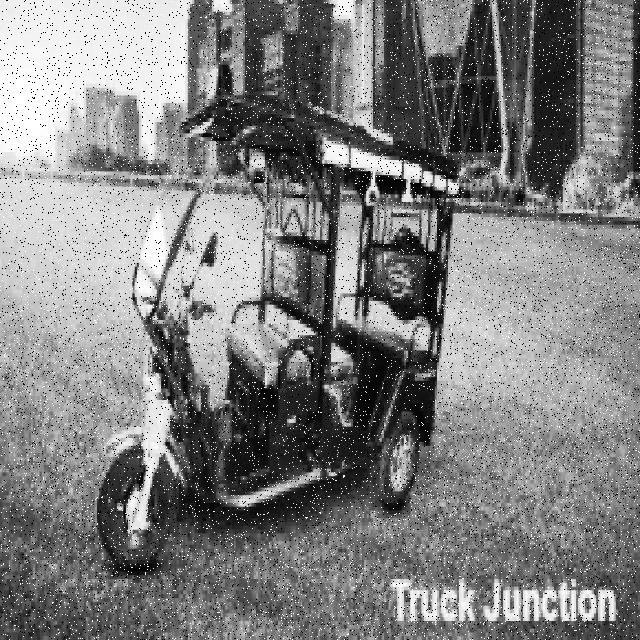Toto: (96, 86, 464, 584)
